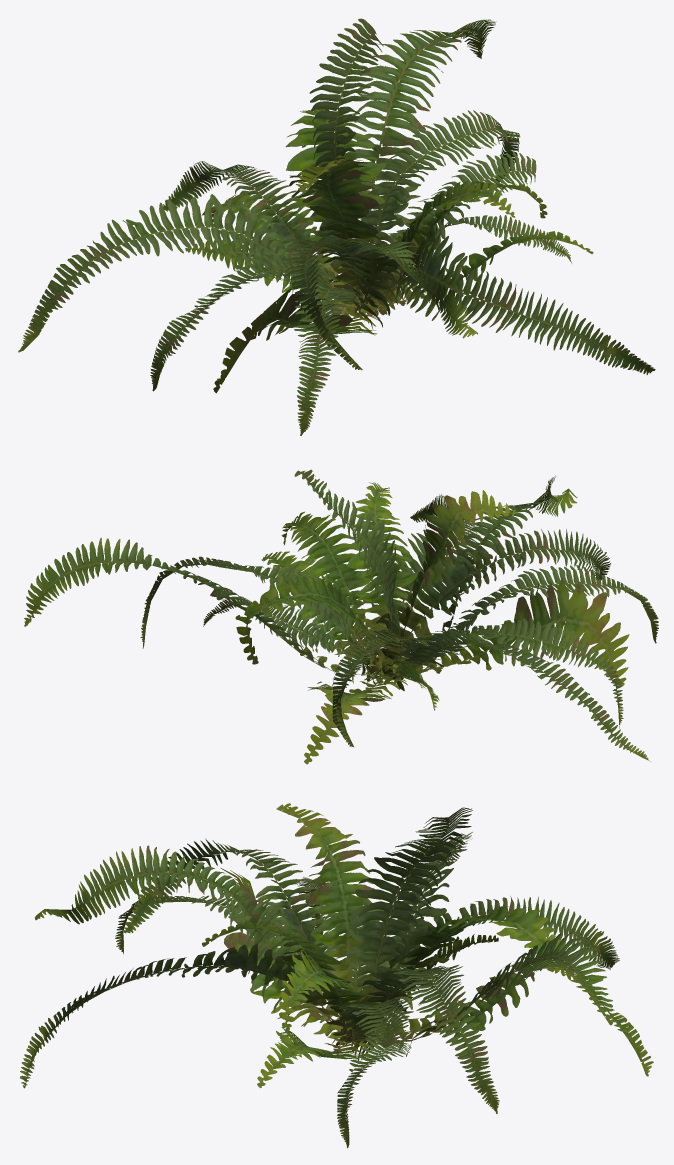
The model's file is fern-02-b.glb.
3 views of the same model, one above another, from view 1: azimuth 30°, elevation 25°; view 2: azimuth 150°, elevation 25°; view 3: azimuth 270°, elevation 25° (orthographic). The views are drawn at different scales.
Visible parts, largest first — view 1: fern_02_b; view 2: fern_02_b; view 3: fern_02_b.
Part boxes in pixels (x1,y1,x2,y2): fern_02_b: [18, 18, 655, 435]; fern_02_b: [24, 469, 658, 764]; fern_02_b: [20, 803, 653, 1148].
Size of the model in its own units: 0.9897 by 0.4277 by 0.8937.
Materials: 1 (1 with a texture image).
